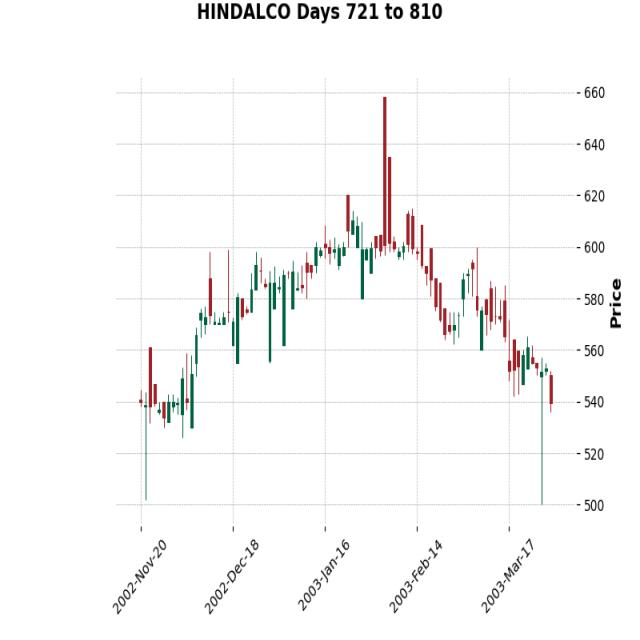Double Top: (398, 199, 547, 368)
